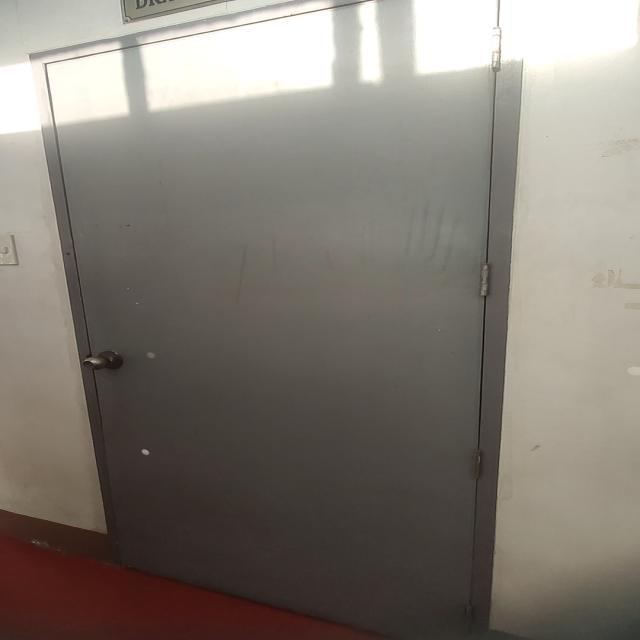door: (25, 0, 527, 640)
